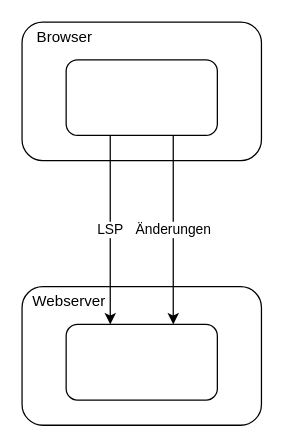
The diagram is 284 pixels wide and 447 high, and some of its shapes have lost their labels. The centre of each missing label's shape, as x and y in pixels:
"Lean Language Server" goes at (141,361).
"Monaco Editor (LSP Client)" goes at (141,97).
